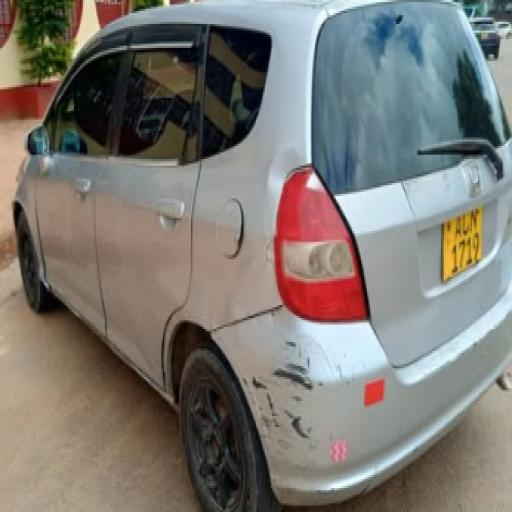number-plates: (440, 210, 486, 270)
